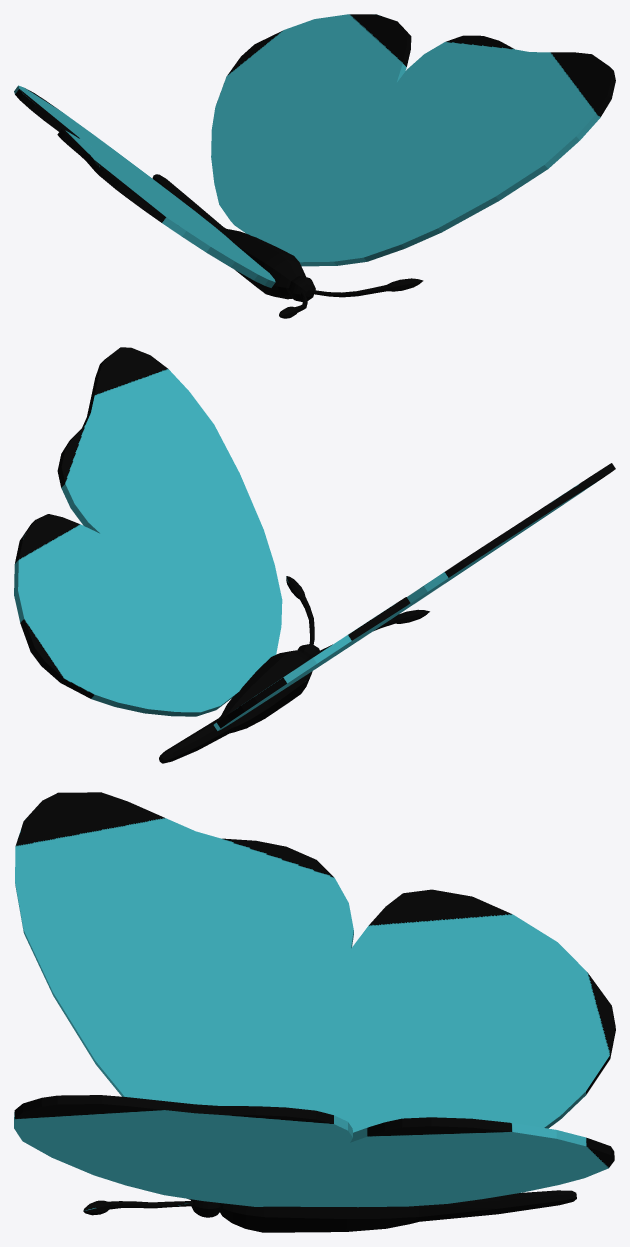
Rendered from butterfly_blue.obj.
The picture shows the model from 3 angles, top to bottom: view 1: azimuth 30°, elevation 25°; view 2: azimuth 150°, elevation 25°; view 3: azimuth 270°, elevation 25°; orthographic projection. The views are drawn at different scales.
Visible parts, largest first — view 1: Butterfly_blue; view 2: Butterfly_blue; view 3: Butterfly_blue.
Boxes of the visible parts, bbox=[...] form: Butterfly_blue: bbox=[14, 14, 615, 318]; Butterfly_blue: bbox=[14, 347, 615, 763]; Butterfly_blue: bbox=[14, 792, 615, 1232].
Bounding box in the file's own units: 3.15 × 1.41 × 2.63.
Materials: 1 (1 with a texture image).
